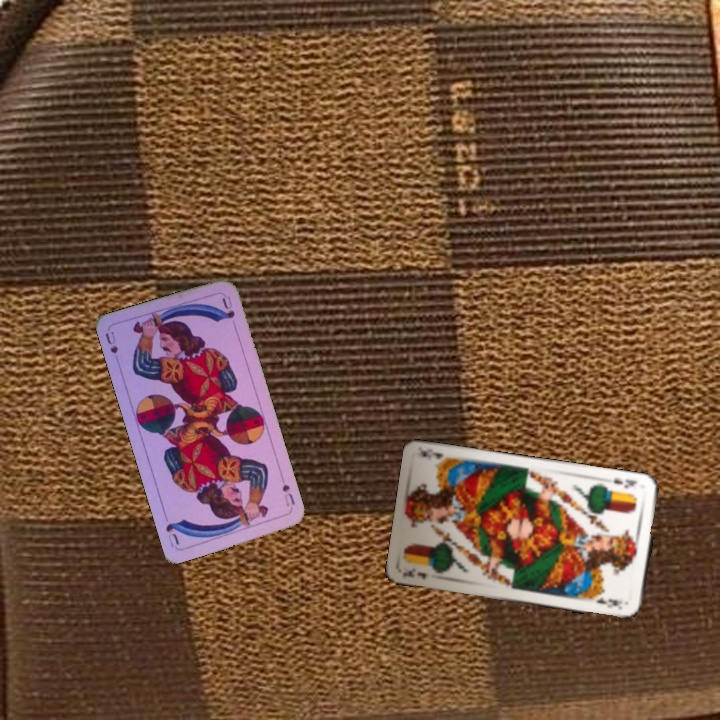EK: (399, 565, 432, 581), (610, 474, 640, 491)
SU: (101, 327, 122, 368), (277, 473, 297, 512)
